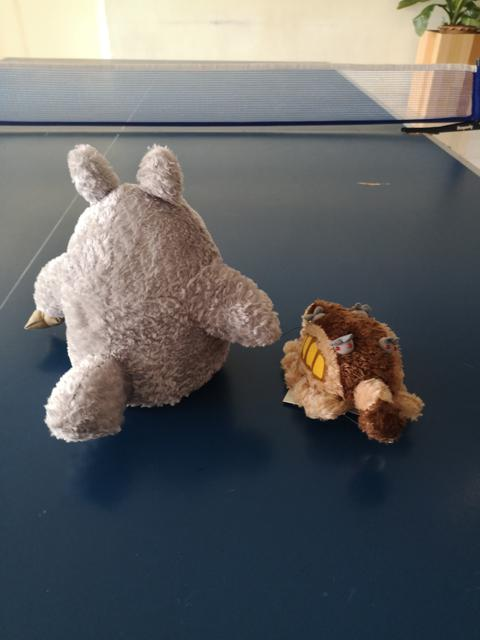nekobus: (282, 294, 427, 447)
totoro: (24, 142, 281, 446)
